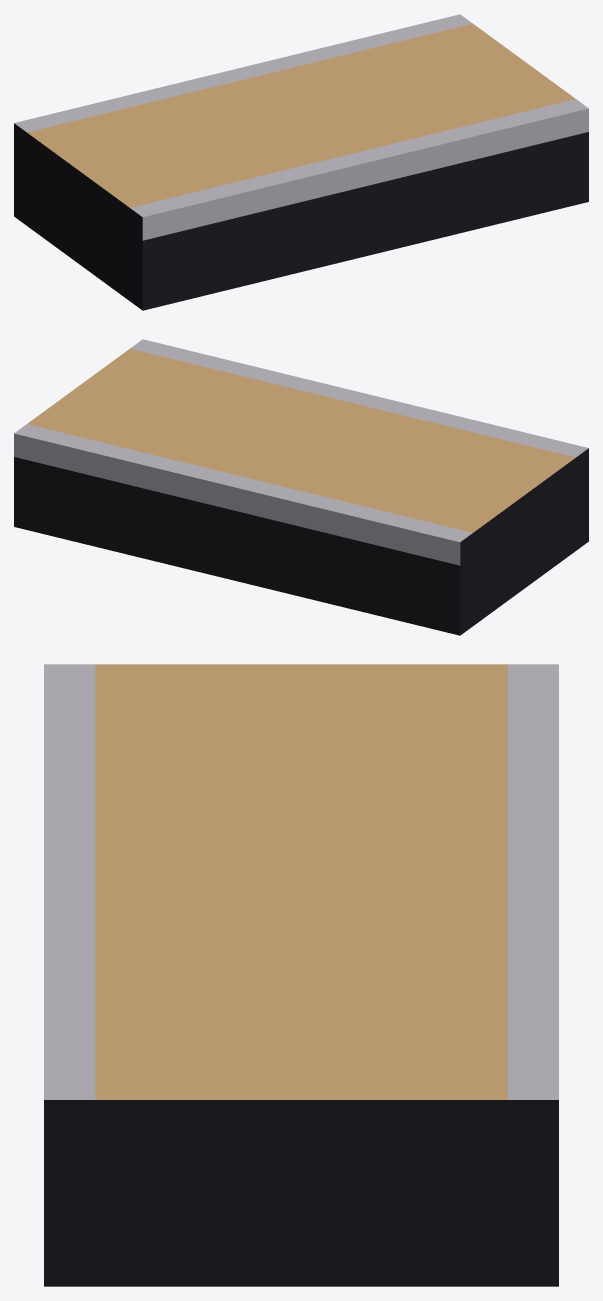
File: ManPad_Half_2_TwoGrind.fbx
3 views of the same model, one above another, from view 1: azimuth 30°, elevation 25°; view 2: azimuth 150°, elevation 25°; view 3: azimuth 270°, elevation 25° (orthographic). The views are drawn at different scales.
Parts seen in each view (by area): view 1: ManPad_Half_2_TwoGrind; view 2: ManPad_Half_2_TwoGrind; view 3: ManPad_Half_2_TwoGrind.
Boxes of the visible parts, bbox=[...] form: ManPad_Half_2_TwoGrind: bbox=[14, 14, 588, 310]; ManPad_Half_2_TwoGrind: bbox=[14, 339, 588, 635]; ManPad_Half_2_TwoGrind: bbox=[44, 664, 558, 1286].
Bounding box in the file's own units: 10 × 2 × 5.
